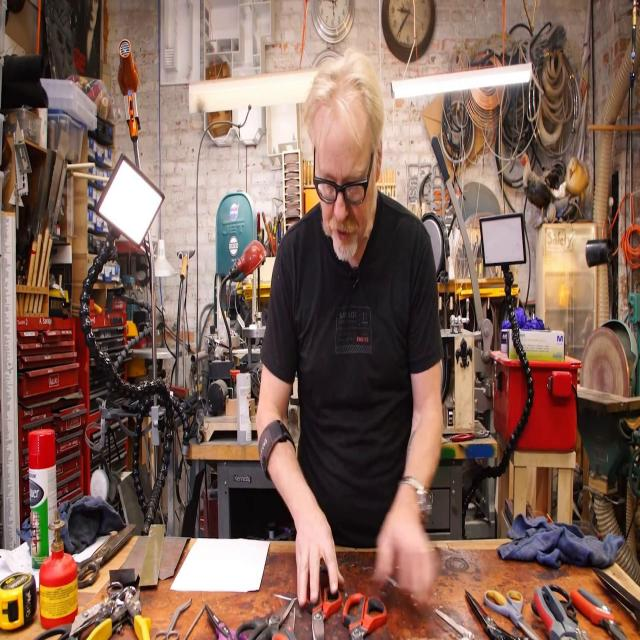scissor: (74, 524, 138, 588), (36, 595, 112, 640), (235, 594, 296, 640), (486, 588, 539, 640), (467, 588, 519, 640), (302, 576, 340, 640), (341, 589, 387, 640), (155, 597, 193, 640), (204, 604, 246, 640), (272, 607, 296, 640)
